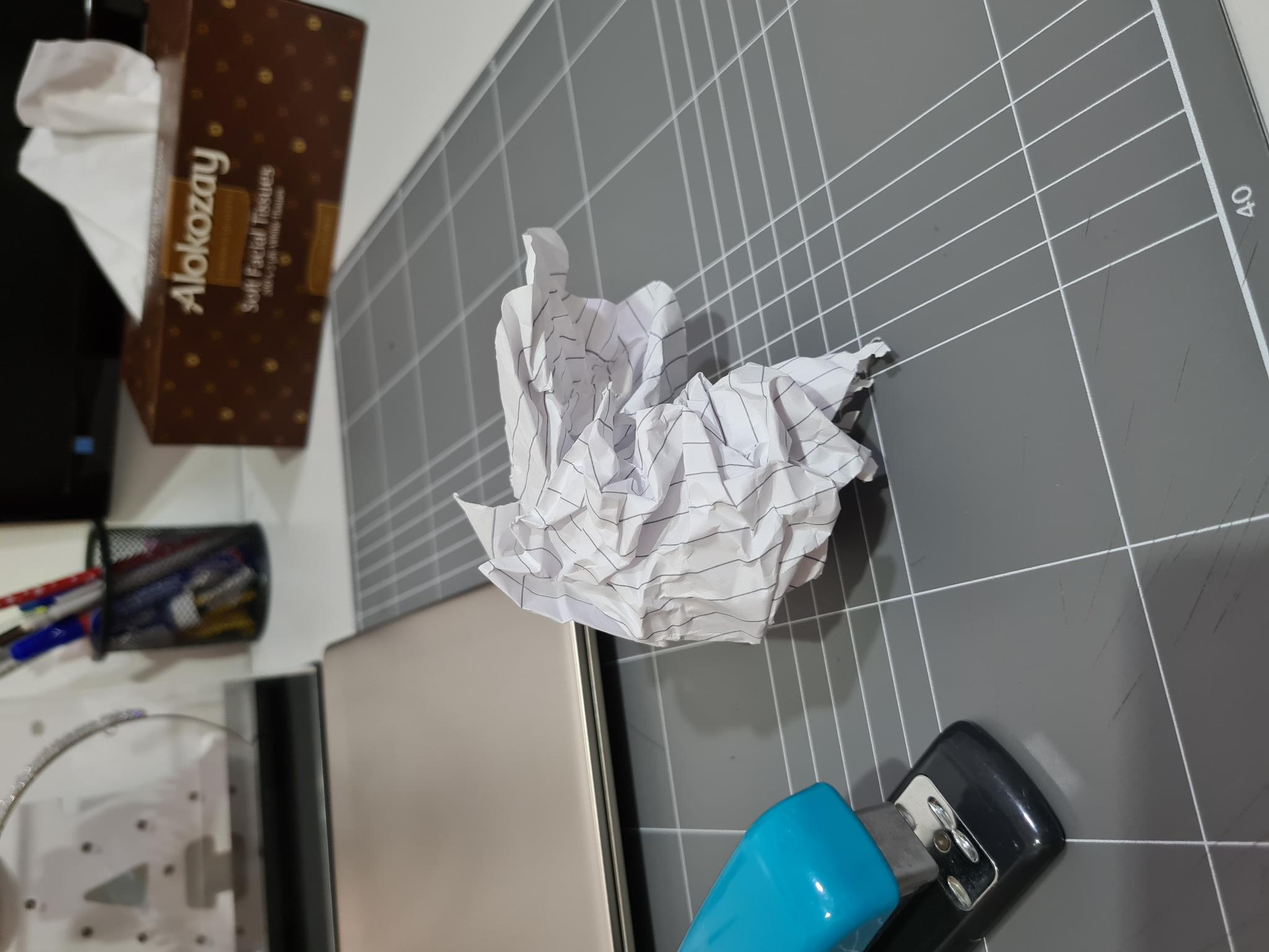Kertas: (306, 455, 723, 888), (631, 15, 912, 160)
